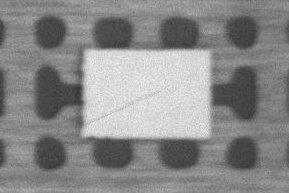DIE_CRACK: (132, 61, 240, 82)
